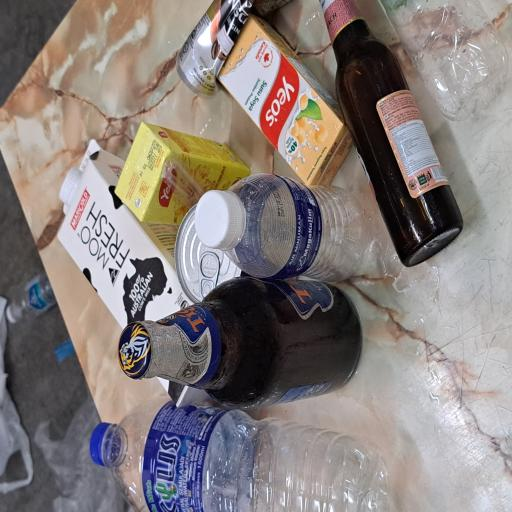can: (313, 232, 384, 380), (156, 226, 236, 336)
drink carton: (81, 74, 279, 259), (246, 287, 366, 464), (217, 145, 278, 328)
glass bottle: (82, 157, 174, 479), (184, 425, 384, 512)
plastic bottle: (0, 140, 88, 512), (177, 297, 249, 512), (141, 15, 179, 72)
plastic bottle cap: (195, 259, 242, 324), (230, 74, 261, 112), (38, 120, 65, 146)
pop tab: (161, 262, 195, 292)
